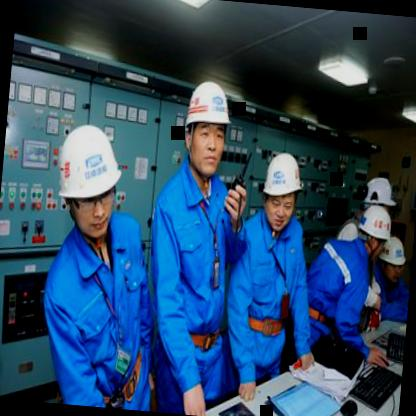helmet: (49, 112, 130, 243), (174, 73, 233, 184), (258, 144, 307, 232), (360, 176, 399, 233), (358, 202, 394, 258), (379, 234, 408, 282)
